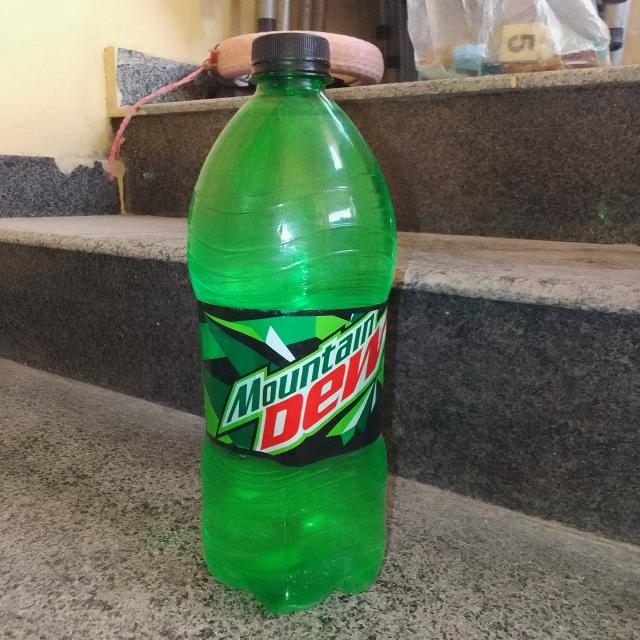bottle: (174, 26, 426, 618)
cap: (244, 24, 346, 90)
label: (209, 306, 377, 468)
